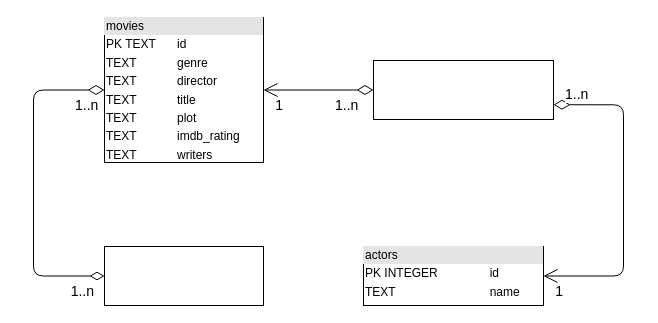
Image size: 658x323. Some labels were removed from this diagram. Here are the shapes that lost their labels. From the top down, the centre of each, then its label:
At [463,90]: "movie_actors TEXT movie_id TEXT actor_id".
At [184,276]: "writers PK TEXT id TEXT name".
